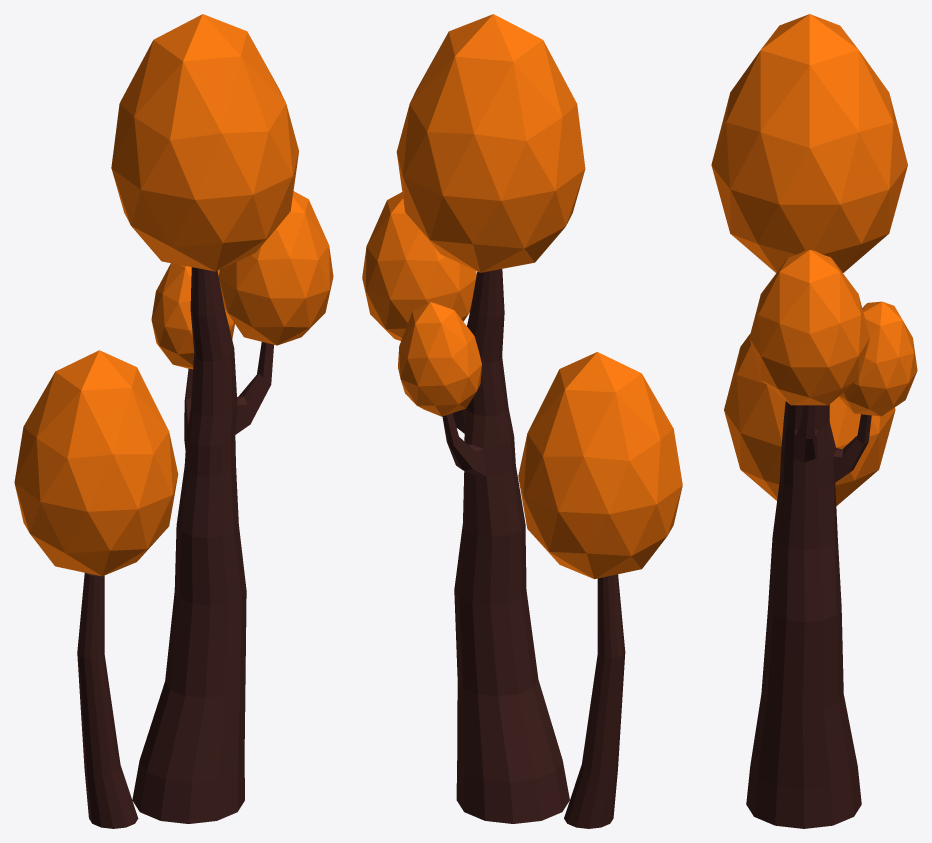
Rendered from Tree7.fbx.
3 views of the same model, side by side, from view 1: azimuth 30°, elevation 25°; view 2: azimuth 150°, elevation 25°; view 3: azimuth 270°, elevation 25° (orthographic). The views are drawn at different scales.
Visible parts, largest first — view 1: Tree7; view 2: Tree7; view 3: Tree7.
Part boxes in pixels (x1,y1,x2,y2): Tree7: (14,14,333,828); Tree7: (362,14,682,828); Tree7: (711,14,917,828).
Size of the model in its own units: 422 by 1059 by 248.
